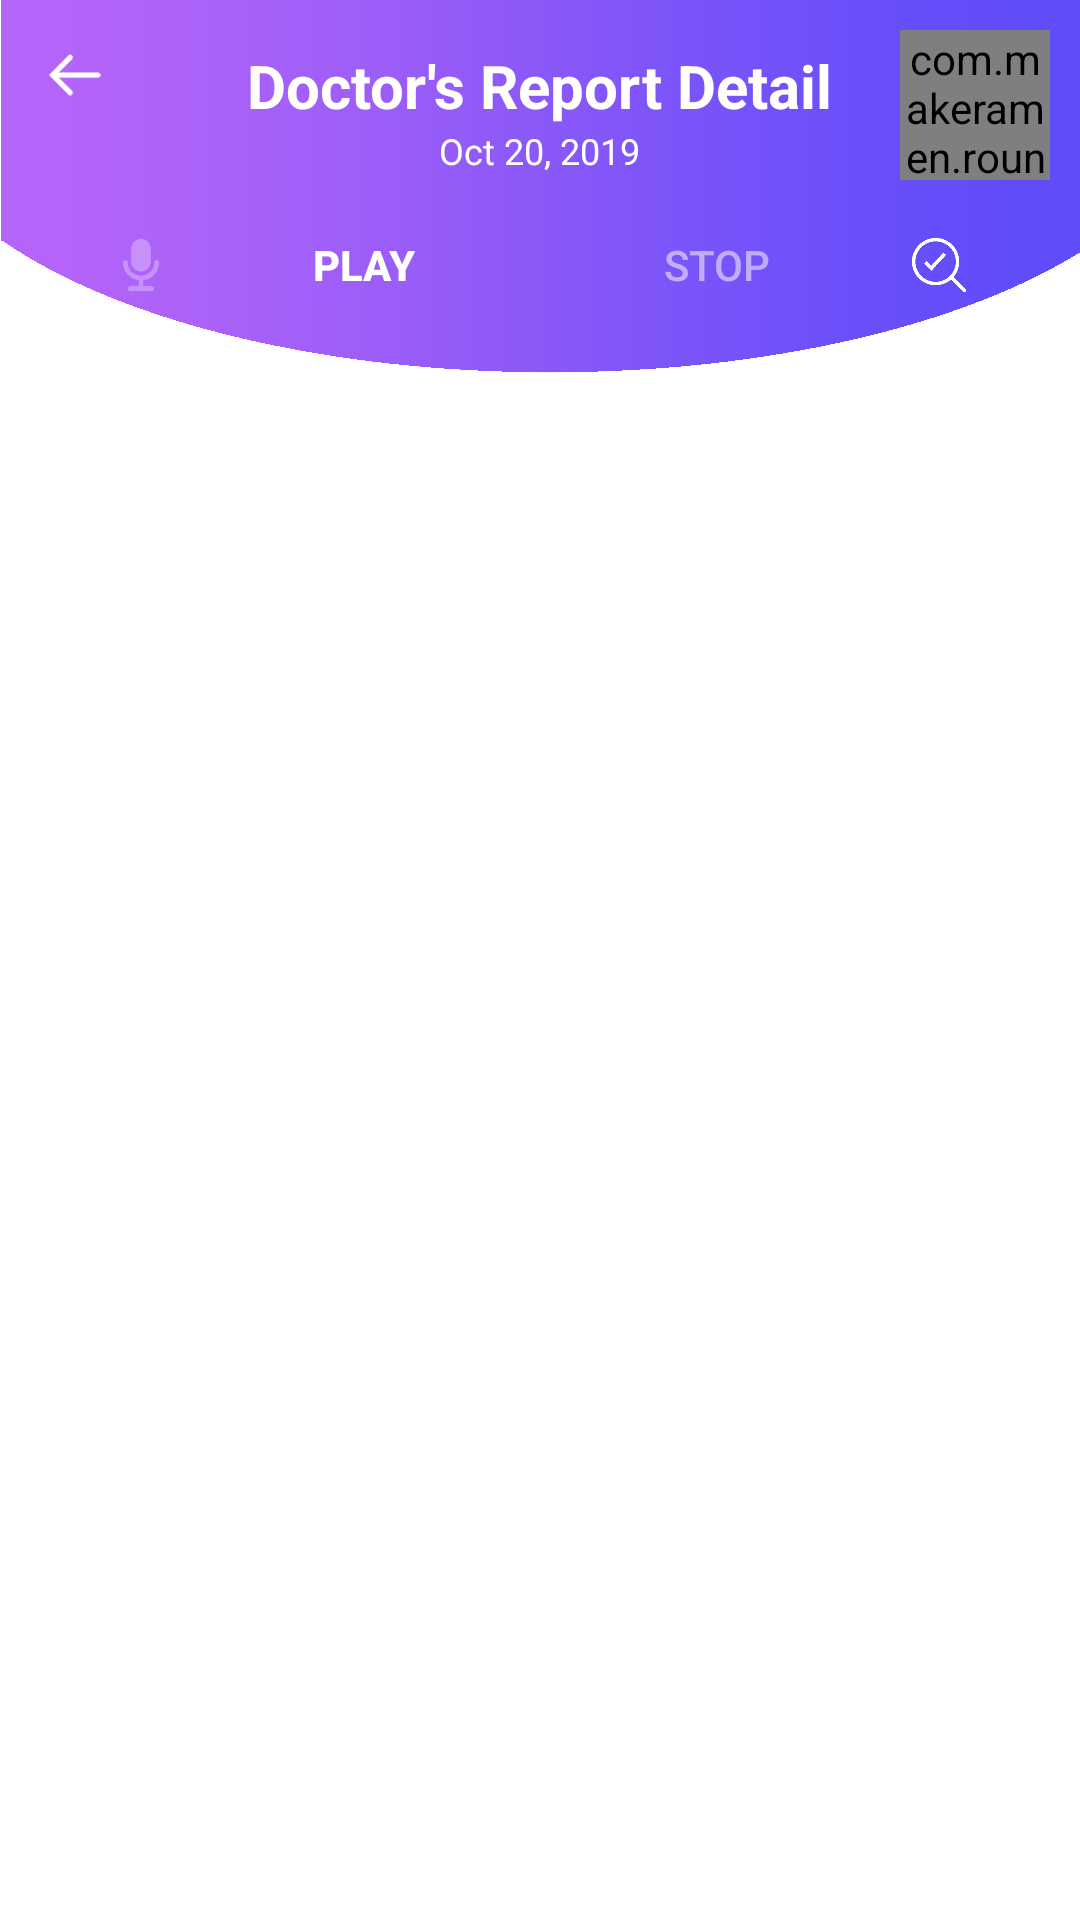

Where icons sit on this 1080x1920 app screen, as BBox(x1, y1, x2, y2):
audio: BBox(123, 239, 159, 291)
checked: BBox(912, 238, 966, 292)
leftarrow: BBox(49, 54, 101, 96)
